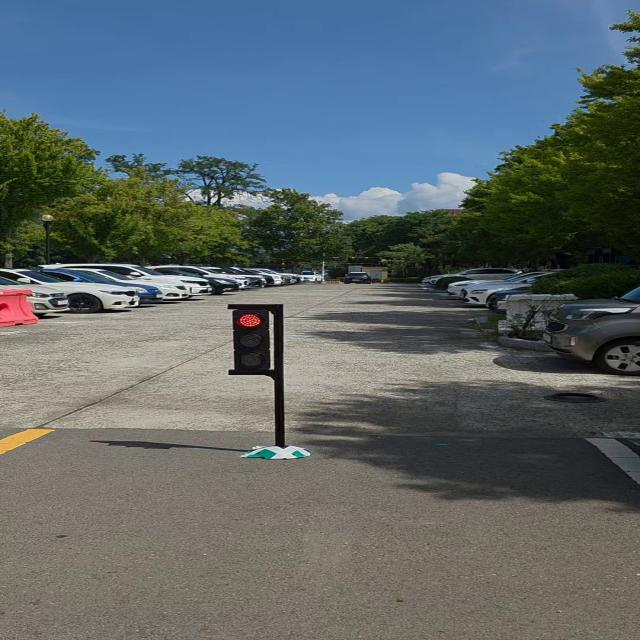red: (227, 308, 277, 380)
